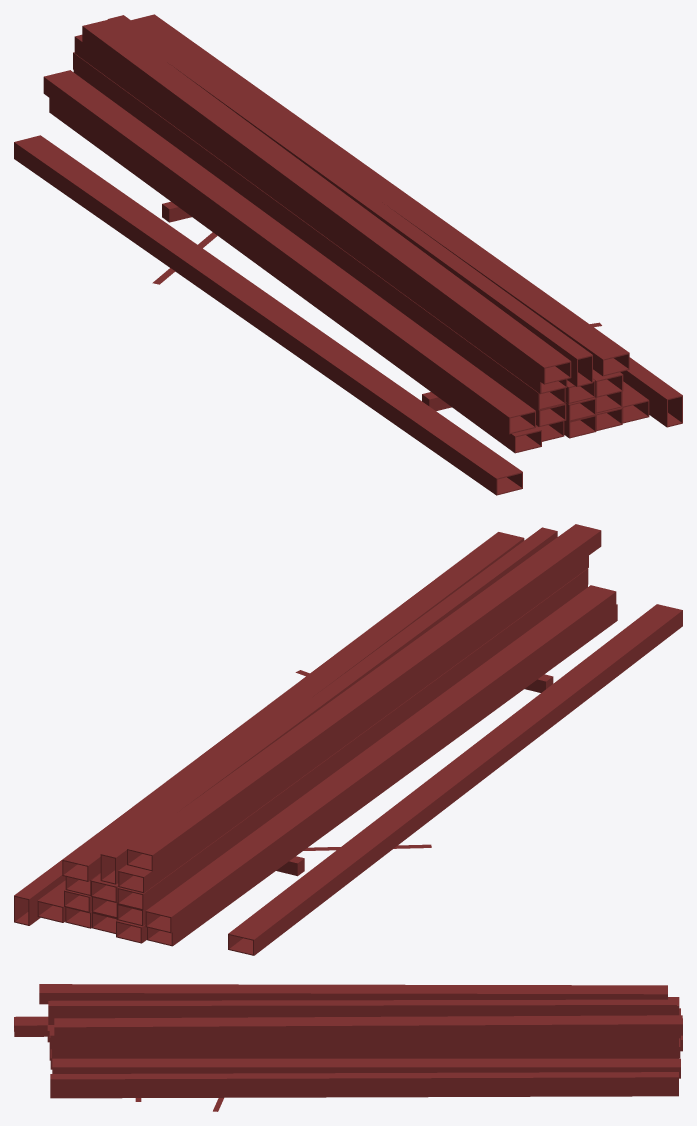
File: SM_SteelBeam02Pack02.fbx
3 renders of one model, top to bottom at view 1: azimuth 30°, elevation 25°; view 2: azimuth 150°, elevation 25°; view 3: azimuth 270°, elevation 25°, orthographic. The views are drawn at different scales.
Visible parts, largest first — view 1: SteelBeam02Pack02; view 2: SteelBeam02Pack02; view 3: SteelBeam02Pack02.
Part boxes in pixels (left/top/right/bottom): SteelBeam02Pack02: left=14, top=14, right=682, bottom=495; SteelBeam02Pack02: left=14, top=524, right=682, bottom=955; SteelBeam02Pack02: left=14, top=984, right=682, bottom=1111.
Bounding box in the file's own units: 110 × 34.78 × 319.
